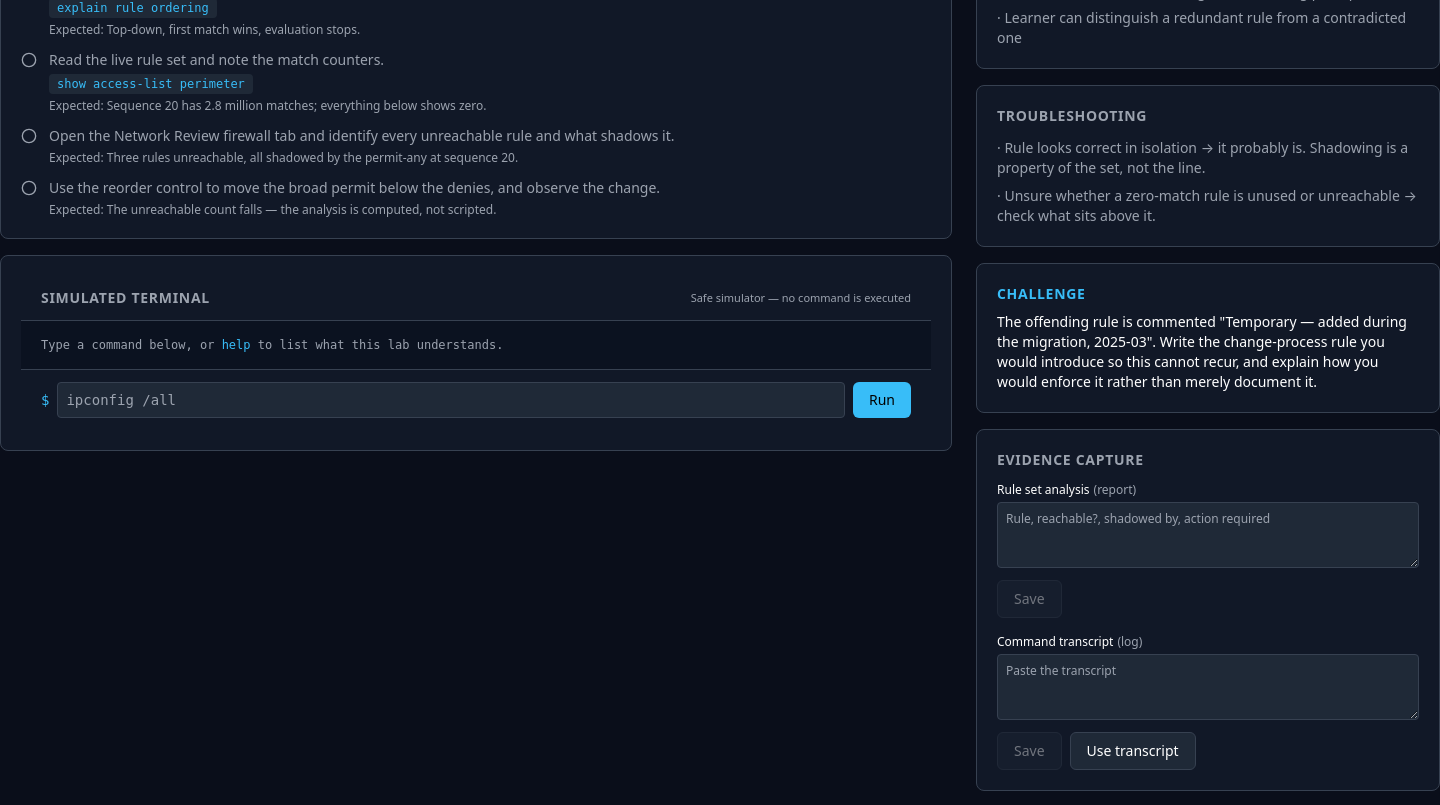
it: Phase 11 labs and quizzes › shows the match counters in the firewall lab
(page scrolled)
Type "show access-list perimeter" into the field named "Simulated command input".
click(451, 400); type("show access-list perimeter")  # box 57,382 -> 845,418
Then press Enter
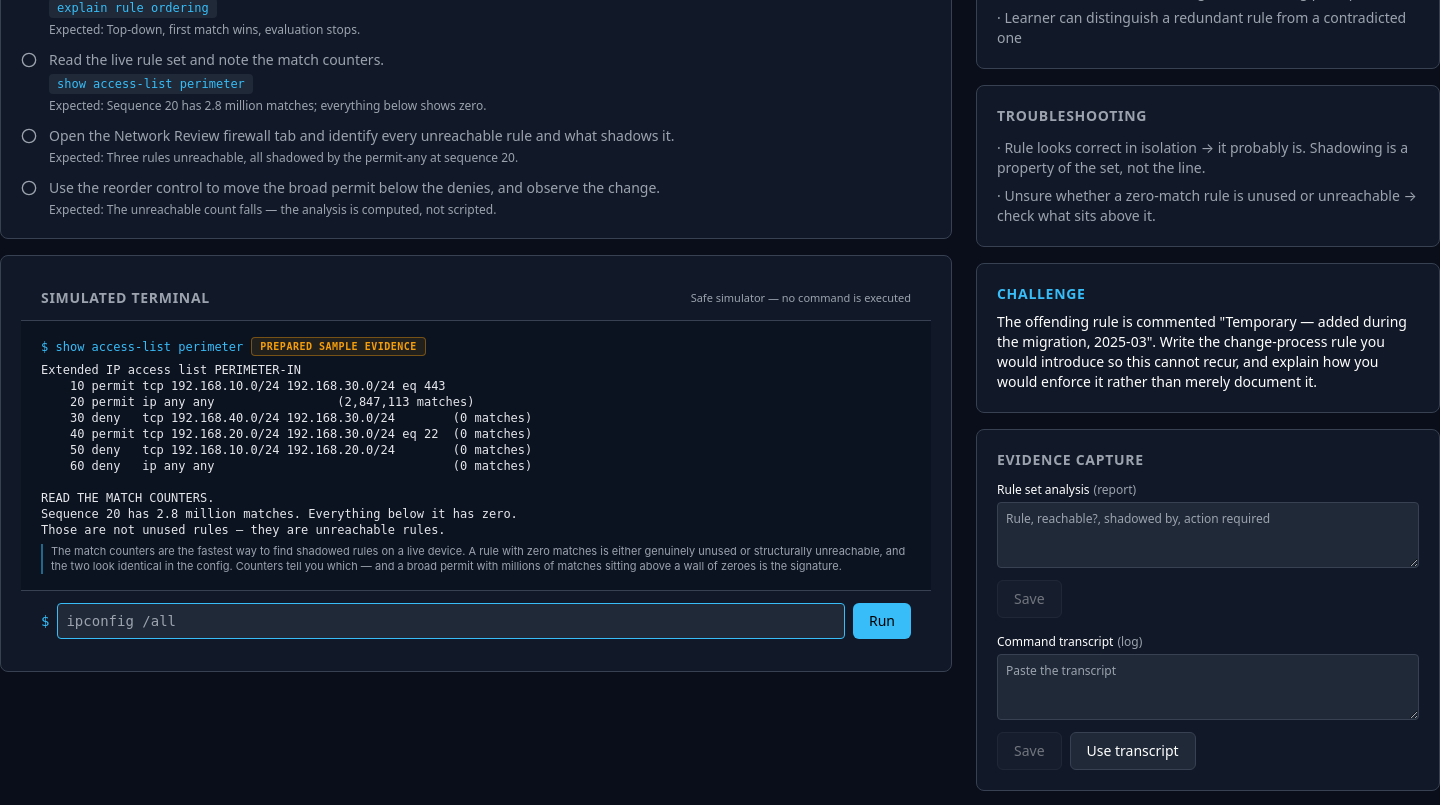
Check: the text "unreachable rules" is shown, box 41,363 -> 532,537
